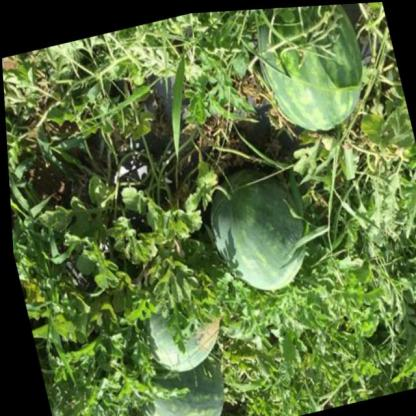watermelon: (245, 2, 376, 142), (197, 155, 318, 300), (135, 288, 228, 376), (128, 351, 228, 416)
